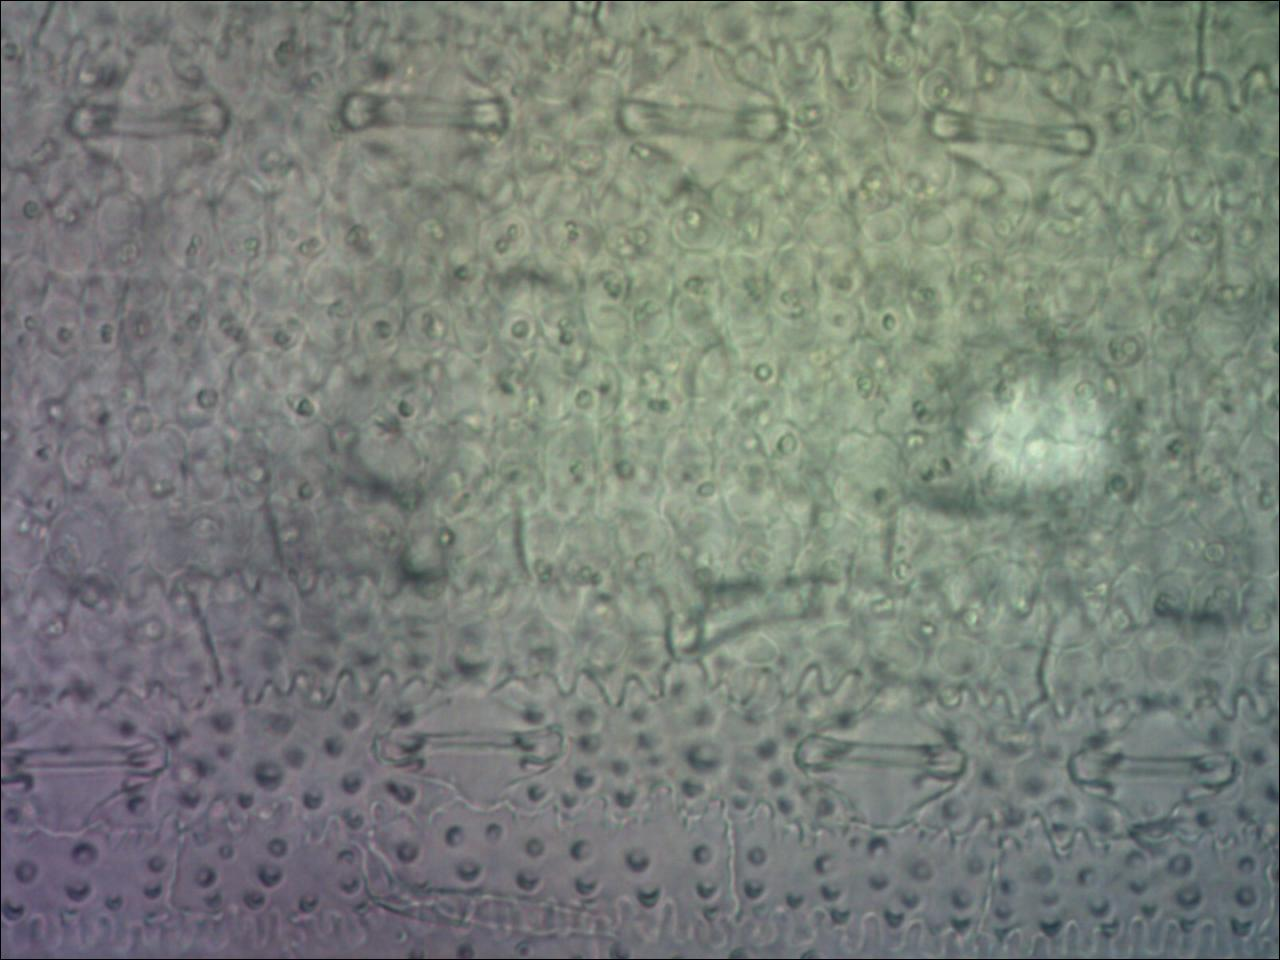stoma: (361, 679, 573, 816), (58, 42, 233, 209), (615, 38, 793, 193), (1, 691, 179, 844), (336, 33, 514, 183), (793, 680, 974, 826), (929, 55, 1098, 208), (1061, 707, 1238, 833)
